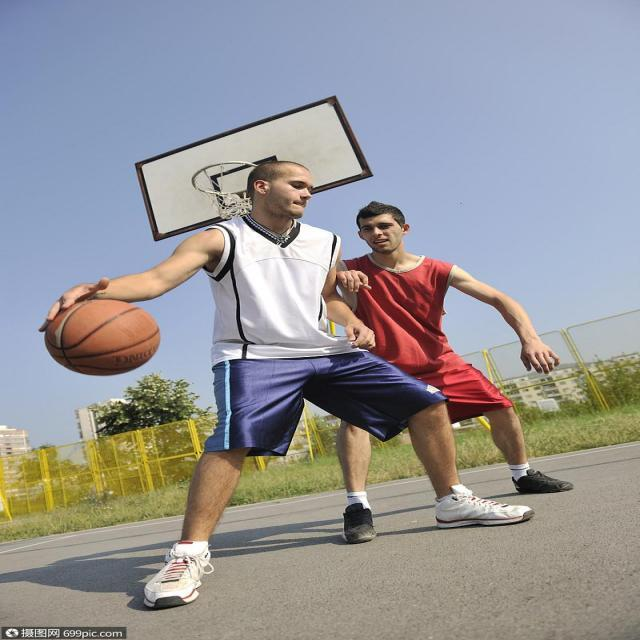rim: (46, 298, 156, 374)
